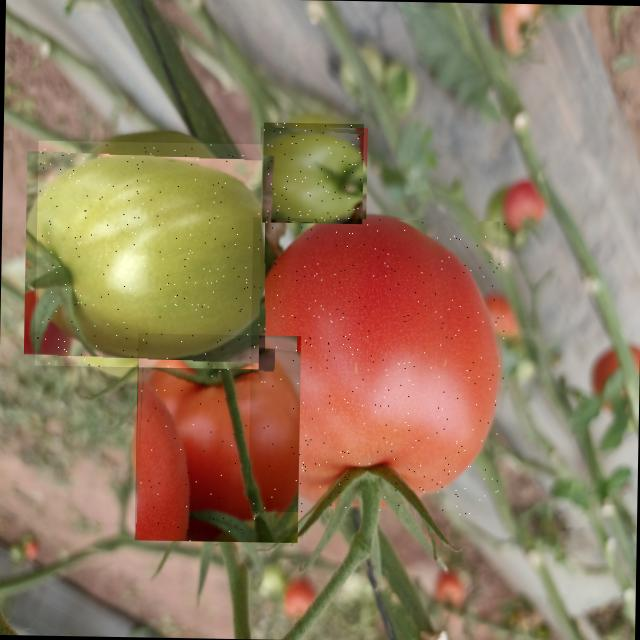Ripe Tomato: (248, 217, 506, 515), (134, 332, 301, 542)
Unripe Tomato: (34, 140, 262, 369), (262, 122, 364, 224)
